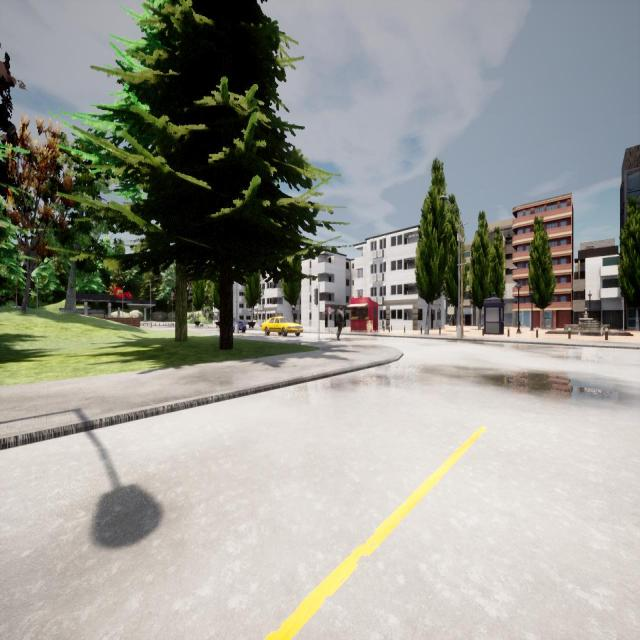Pedestrian: (335, 306, 345, 340)
Traffic_Signs: (326, 306, 332, 314)
Vehicle: (261, 317, 303, 336), (233, 321, 246, 332)
traffic_light: (314, 288, 318, 305)
